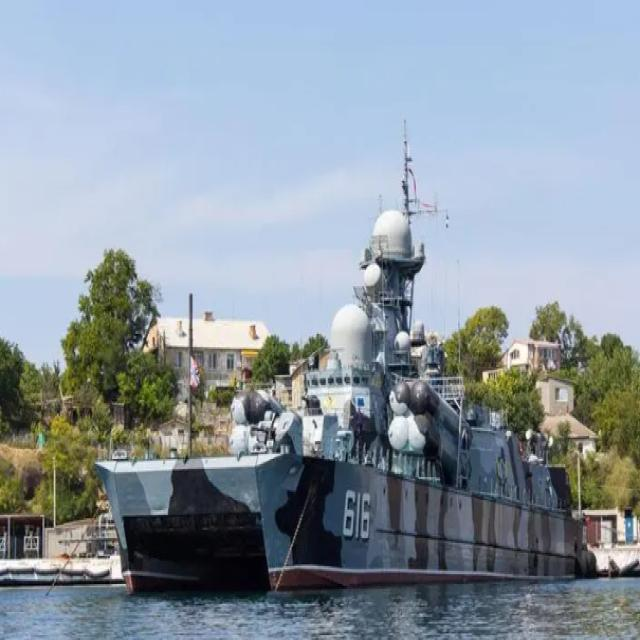navalvessels: (95, 152, 591, 624)
